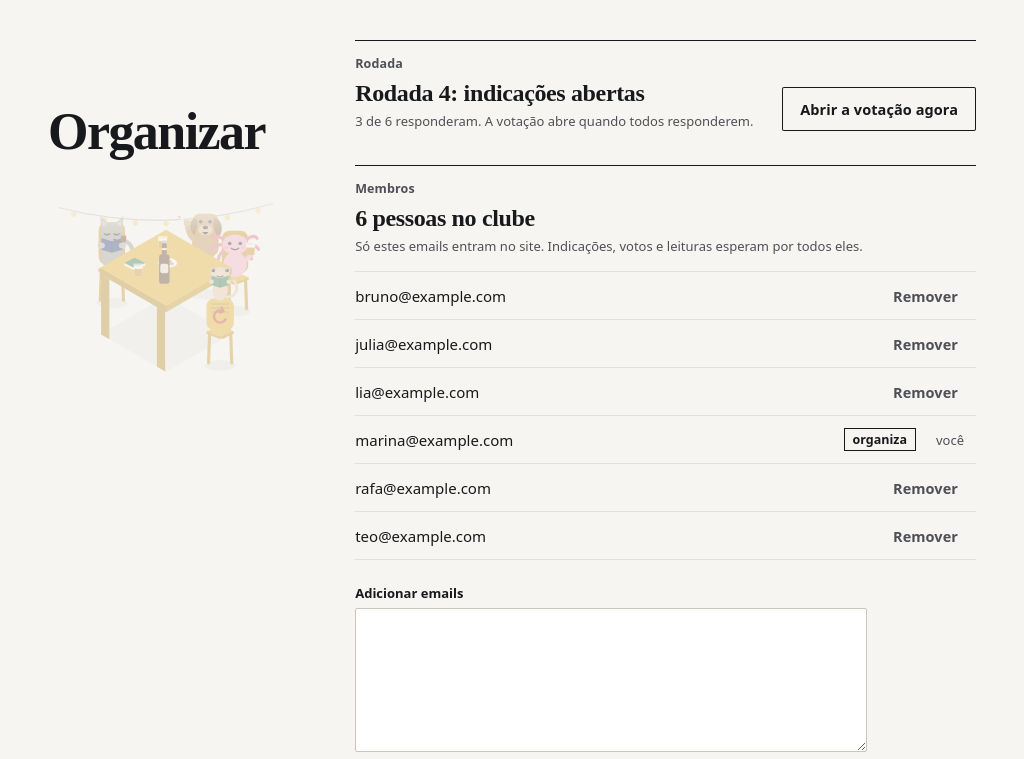
it: AdminPage, members › says what is wrong with a paste
This screenshot has width=1024, height=759.
Type "fulano@" into the text box labelled "Adicionar emails" at (611, 680), box [355,608,867,752]
(page scrolled)
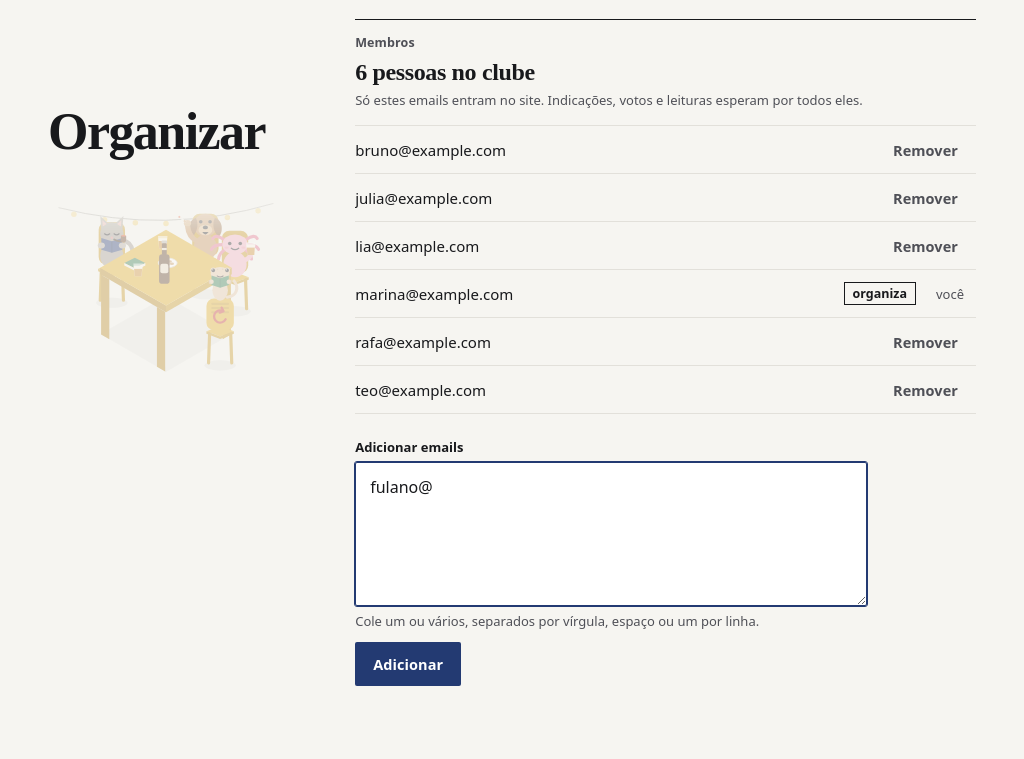
Click the button "Adicionar" at (408, 664), box [355,642,461,686]
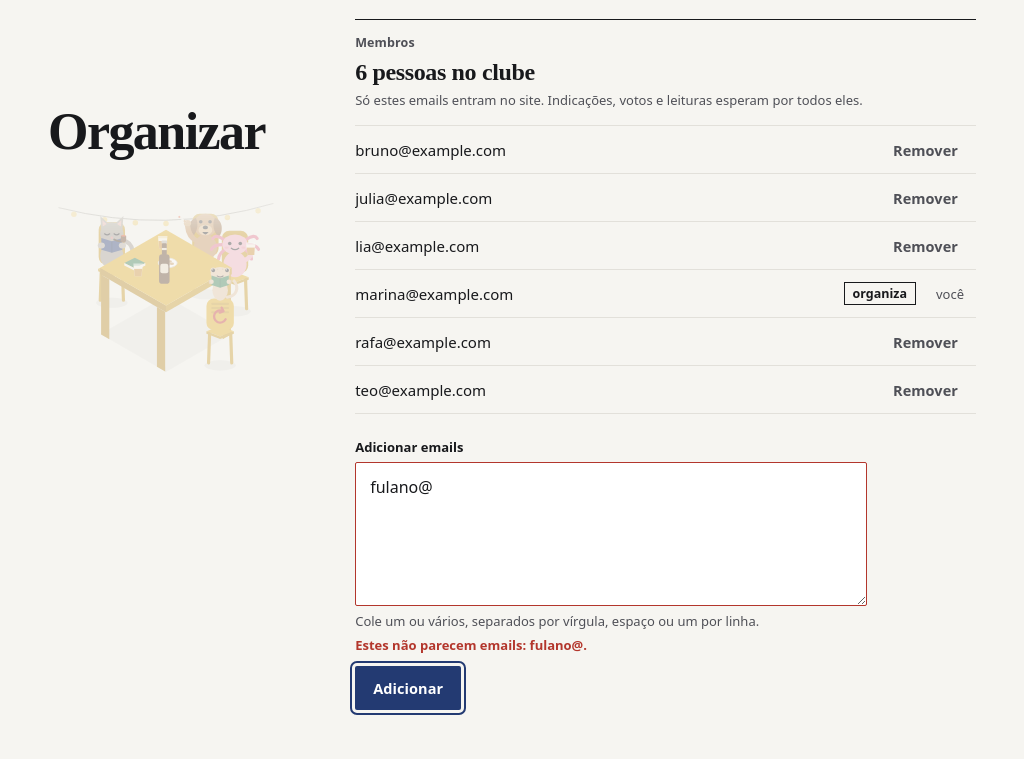
Expected: the text "Estes não parecem emails: fulano@." is shown, [355,636,587,654]
Replace the text in the text box labelled "Adicionar emails" with "rafa@example.com" at (611, 534), box [355,462,867,606]
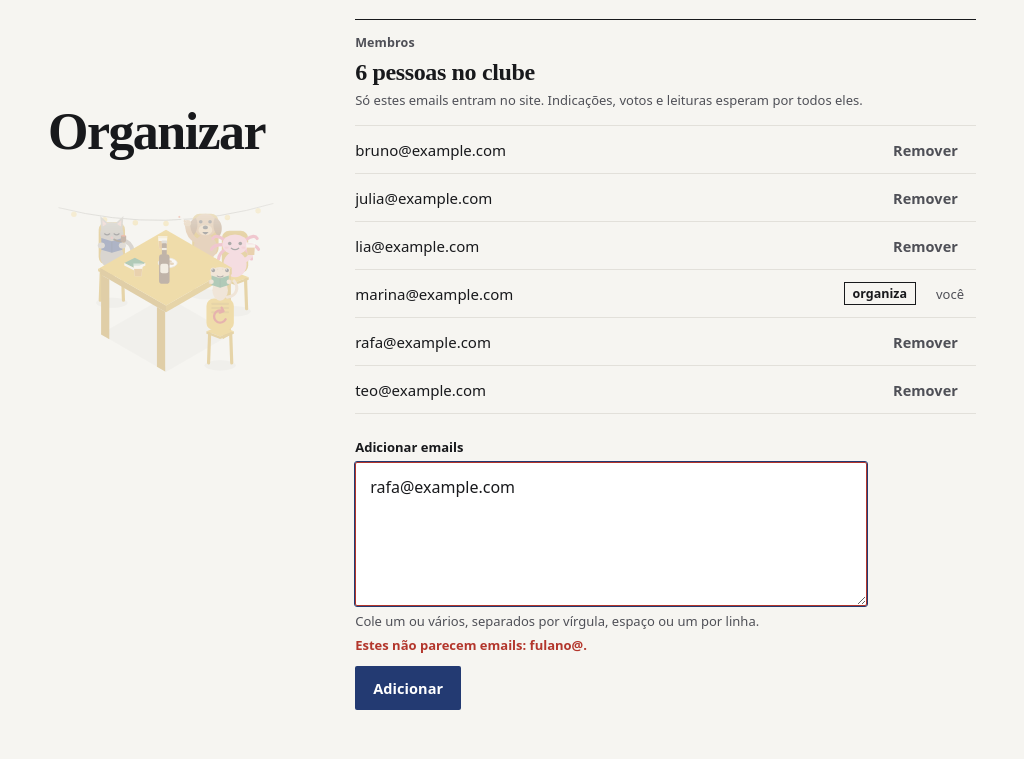
Click the button "Adicionar" at (408, 688), box [355,666,461,710]
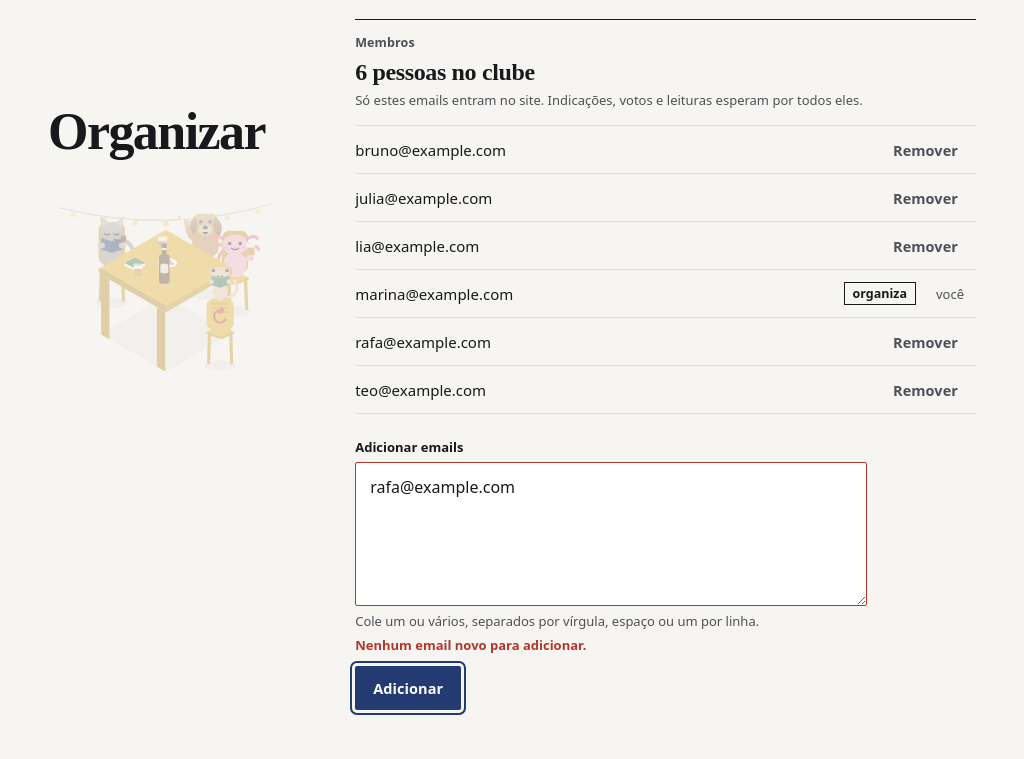
Expected: the text "Nenhum email novo para adicionar." is shown, [355,636,586,654]
